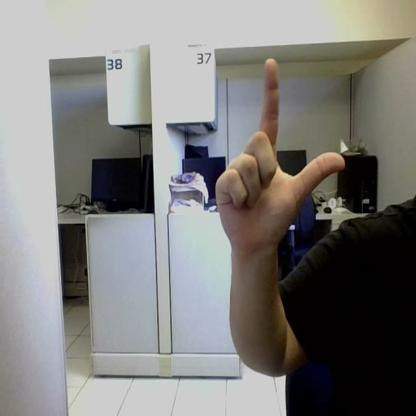L: (216, 58, 345, 249)
